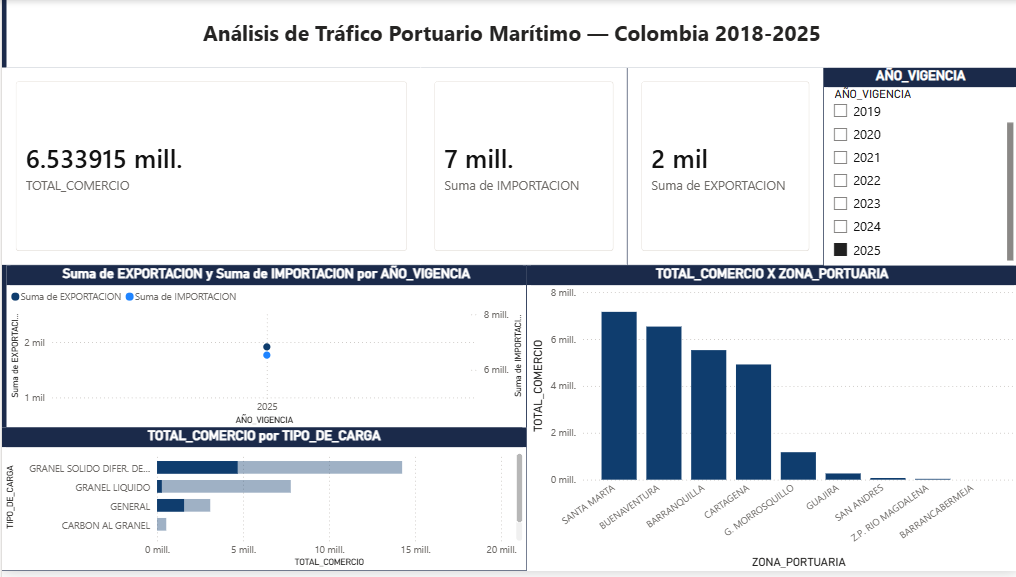

The page's visual inventory and layout, read from the dashboard file:
{"tool":"powerbi","page":{"name":"Página 1","canvas":[1280,720],"ordinal":0},"visuals":[{"type":"columnChart","title":"TOTAL_COMERCIO X ZONA_PORTUARIA","fields":{"Category":["trafico_portuario.ZONA_PORTUARIA"],"Y":["trafico_portuario.TOTAL_COMERCIO"]},"box":[660.6,334.1,618.8,385.3],"z":0},{"type":"lineChart","fields":{"Category":["trafico_portuario.AÑO_VIGENCIA"],"Y":["Sum(trafico_portuario.EXPORTACION)"],"Y2":["Sum(trafico_portuario.IMPORTACION)"]},"box":[5.7,334.1,654.9,205],"z":1},{"type":"barChart","fields":{"Category":["trafico_portuario.TIPO_DE_CARGA"],"Y":["trafico_portuario.TOTAL_COMERCIO"]},"box":[0,539.1,660.6,180.3],"z":2},{"type":"slicer","title":"AÑO_VIGENCIA","fields":{"Values":["trafico_portuario.AÑO_VIGENCIA"]},"box":[1035,85,243.3,248.3],"z":5},{"type":"cardVisual","fields":{"Data":["Sum(trafico_portuario.EXPORTACION)"]},"box":[787.7,85.4,246.8,248.7],"z":6},{"type":"cardVisual","fields":{"Data":["Sum(trafico_portuario.IMPORTACION)"]},"box":[527.7,85.4,260.1,248.7],"z":7},{"type":"cardVisual","fields":{"Data":["trafico_portuario.TOTAL_COMERCIO"]},"box":[0,85.4,527.7,248.7],"z":8},{"type":"textbox","box":[5.7,0,1273.7,85.4],"z":9}]}

Visuals, with their boxes in screenshot pixels (x1, y1, x2, y2), scaled from the page's 1280x720 canvas onto the 1016x577 screenshot:
"TOTAL_COMERCIO X ZONA_PORTUARIA" columnChart: [524,268,1015,576]
lineChart - trafico_portuario.AÑO_VIGENCIA x Sum(trafico_portuario.EXPORTACION): [5,268,524,432]
barChart - trafico_portuario.TIPO_DE_CARGA x trafico_portuario.TOTAL_COMERCIO: [0,432,524,576]
"AÑO_VIGENCIA" slicer: [822,68,1015,267]
cardVisual - Sum(trafico_portuario.EXPORTACION): [625,68,821,268]
cardVisual - Sum(trafico_portuario.IMPORTACION): [419,68,625,268]
cardVisual - trafico_portuario.TOTAL_COMERCIO: [0,68,419,268]
textbox: [5,0,1015,68]
